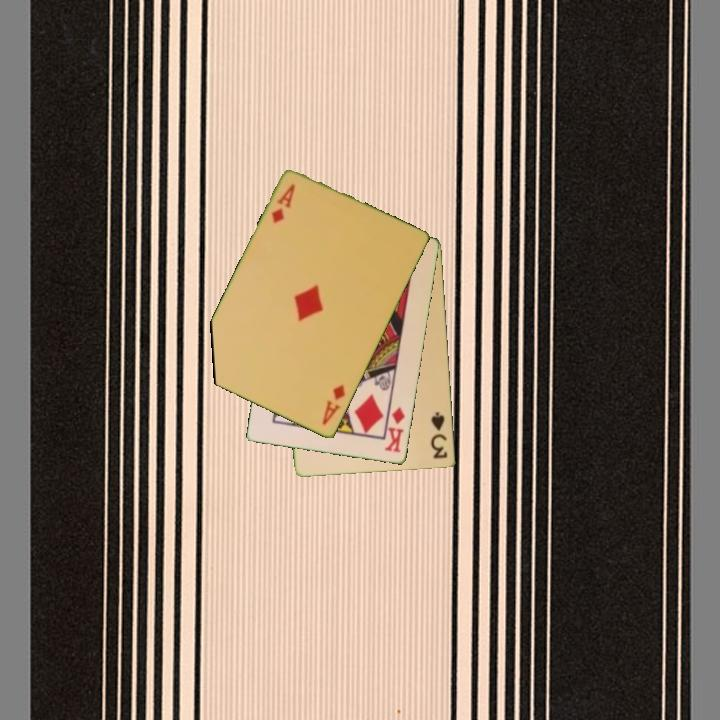3s: (428, 408, 451, 462)
Ad: (268, 180, 298, 227), (319, 381, 348, 428)
Kd: (382, 403, 408, 456)
